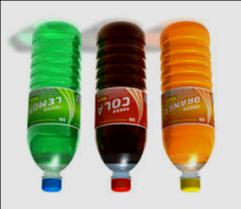Plastic: (157, 19, 218, 193), (92, 20, 150, 193), (26, 19, 81, 194)
